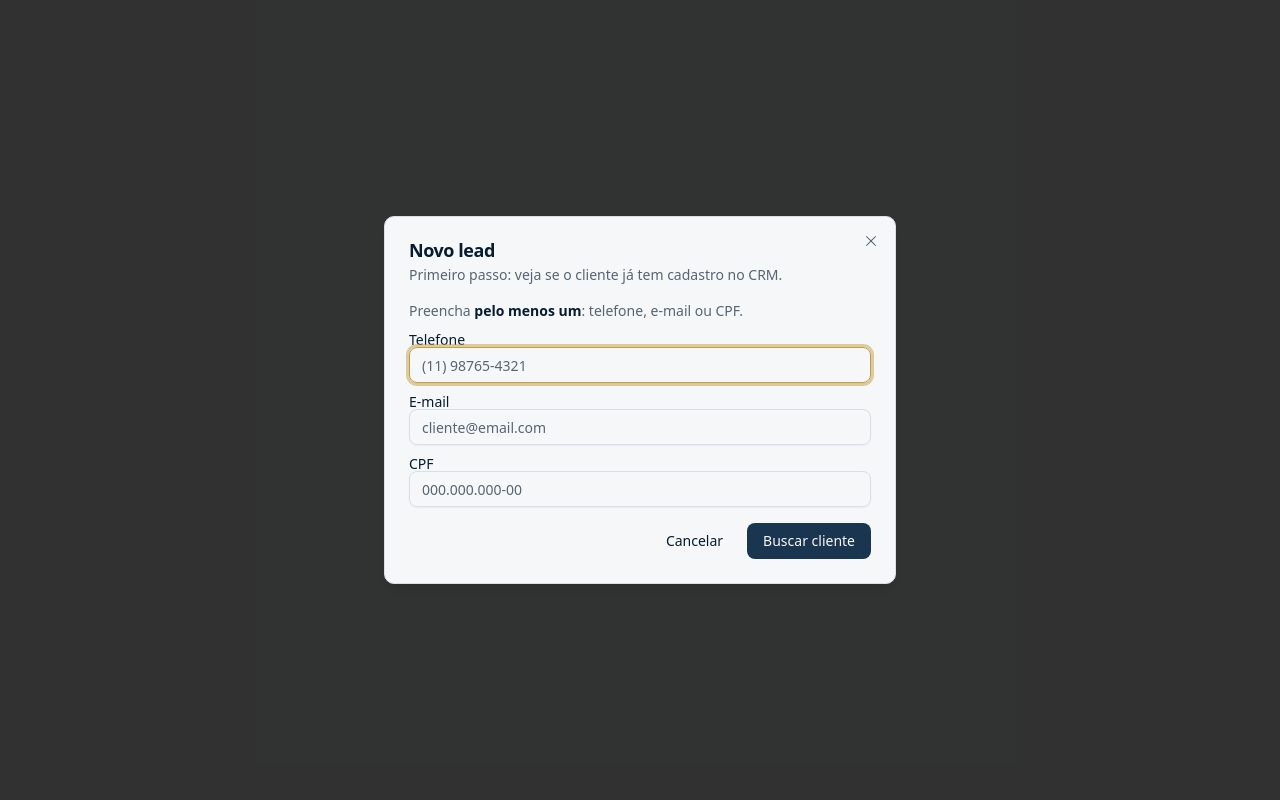
Novo lead do corretor: a busca vem primeiro › CPF com dígito errado: aponta o campo e não consulta
This screenshot has width=1280, height=800.
Type "52998224726" into the field labelled "CPF".
click(640, 489); type("52998224726")  # box [409, 471, 871, 507]
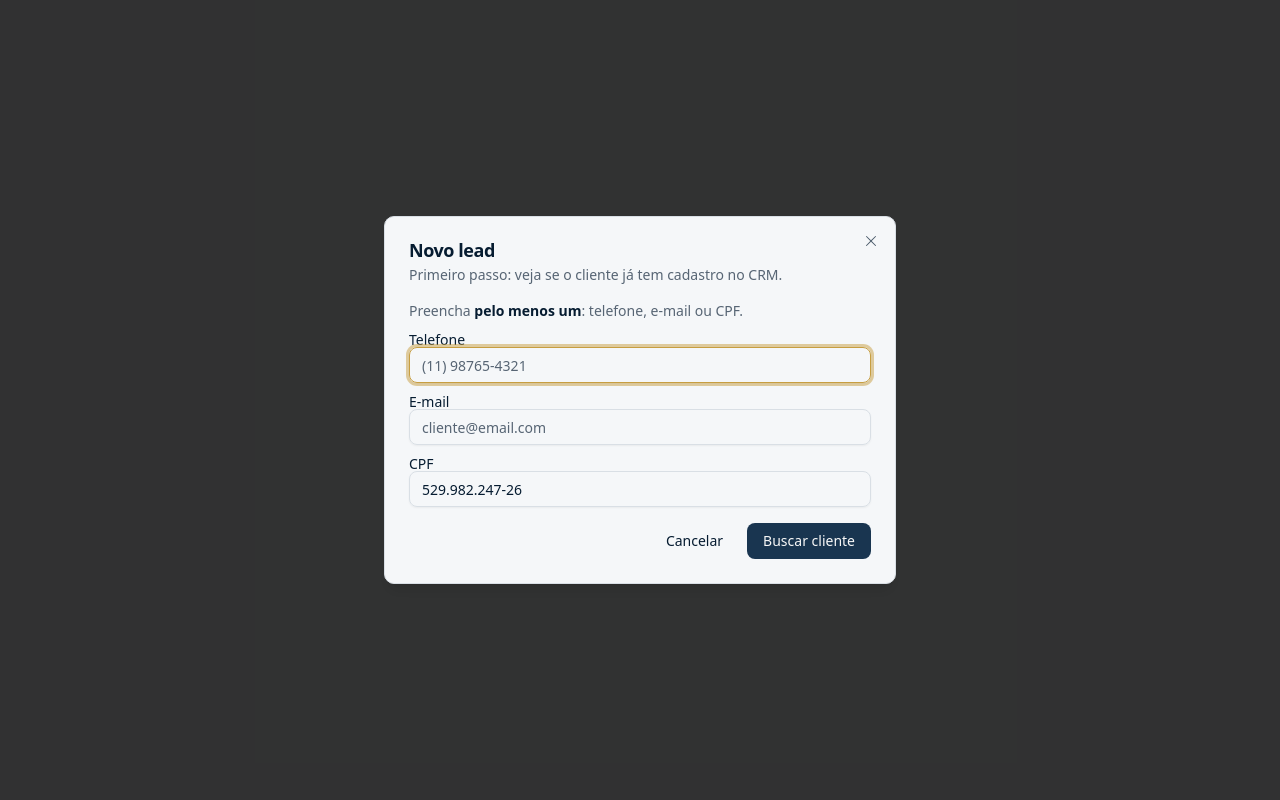
Result: the field labelled "CPF" holds "529.982.247-26" at [409, 471, 871, 507]
Click the button "Buscar cliente".
click(809, 541)  # box [747, 523, 871, 559]
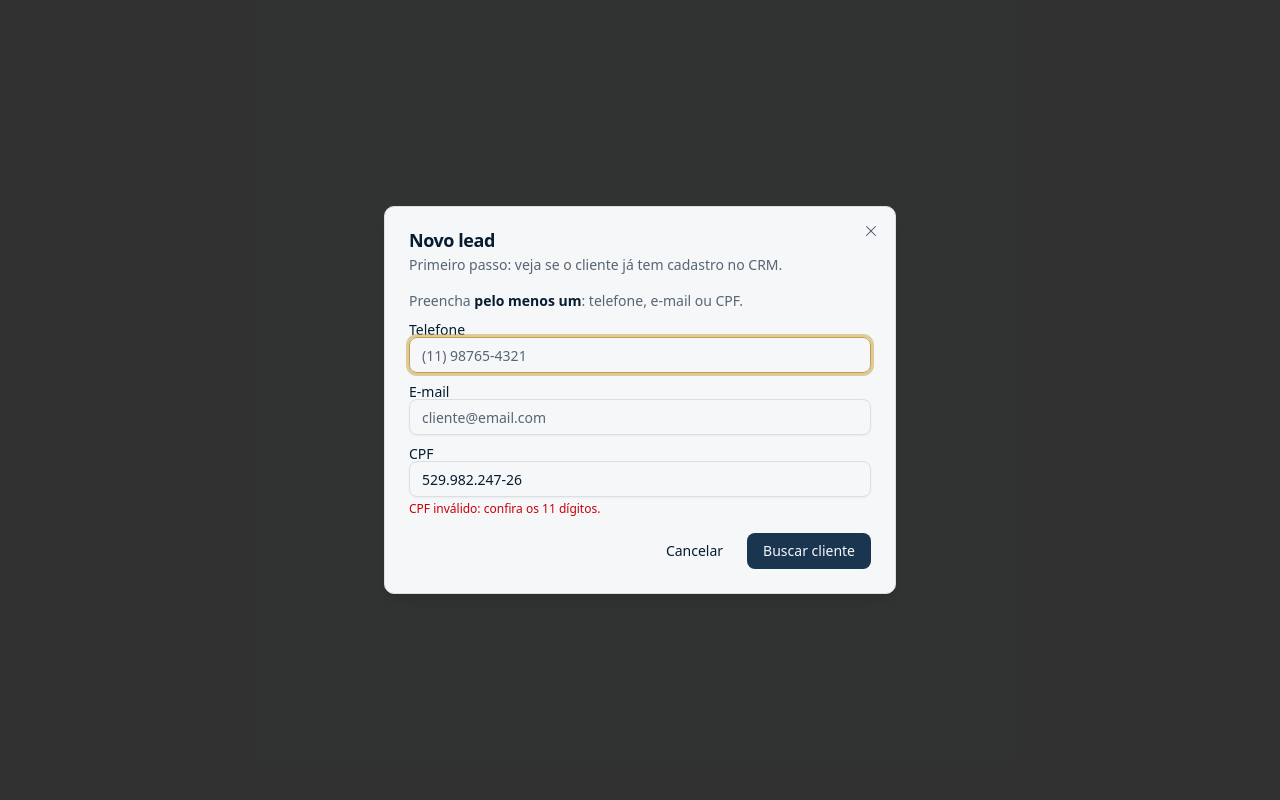
Result: the text "CPF inválido: confira os 11 dígitos." is shown at [409, 500, 600, 517]
